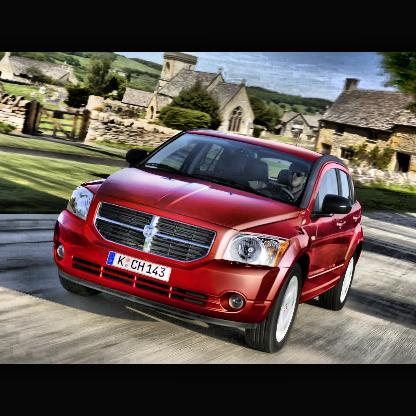Dodge Caliber Wagon 2012: (53, 130, 364, 354)
